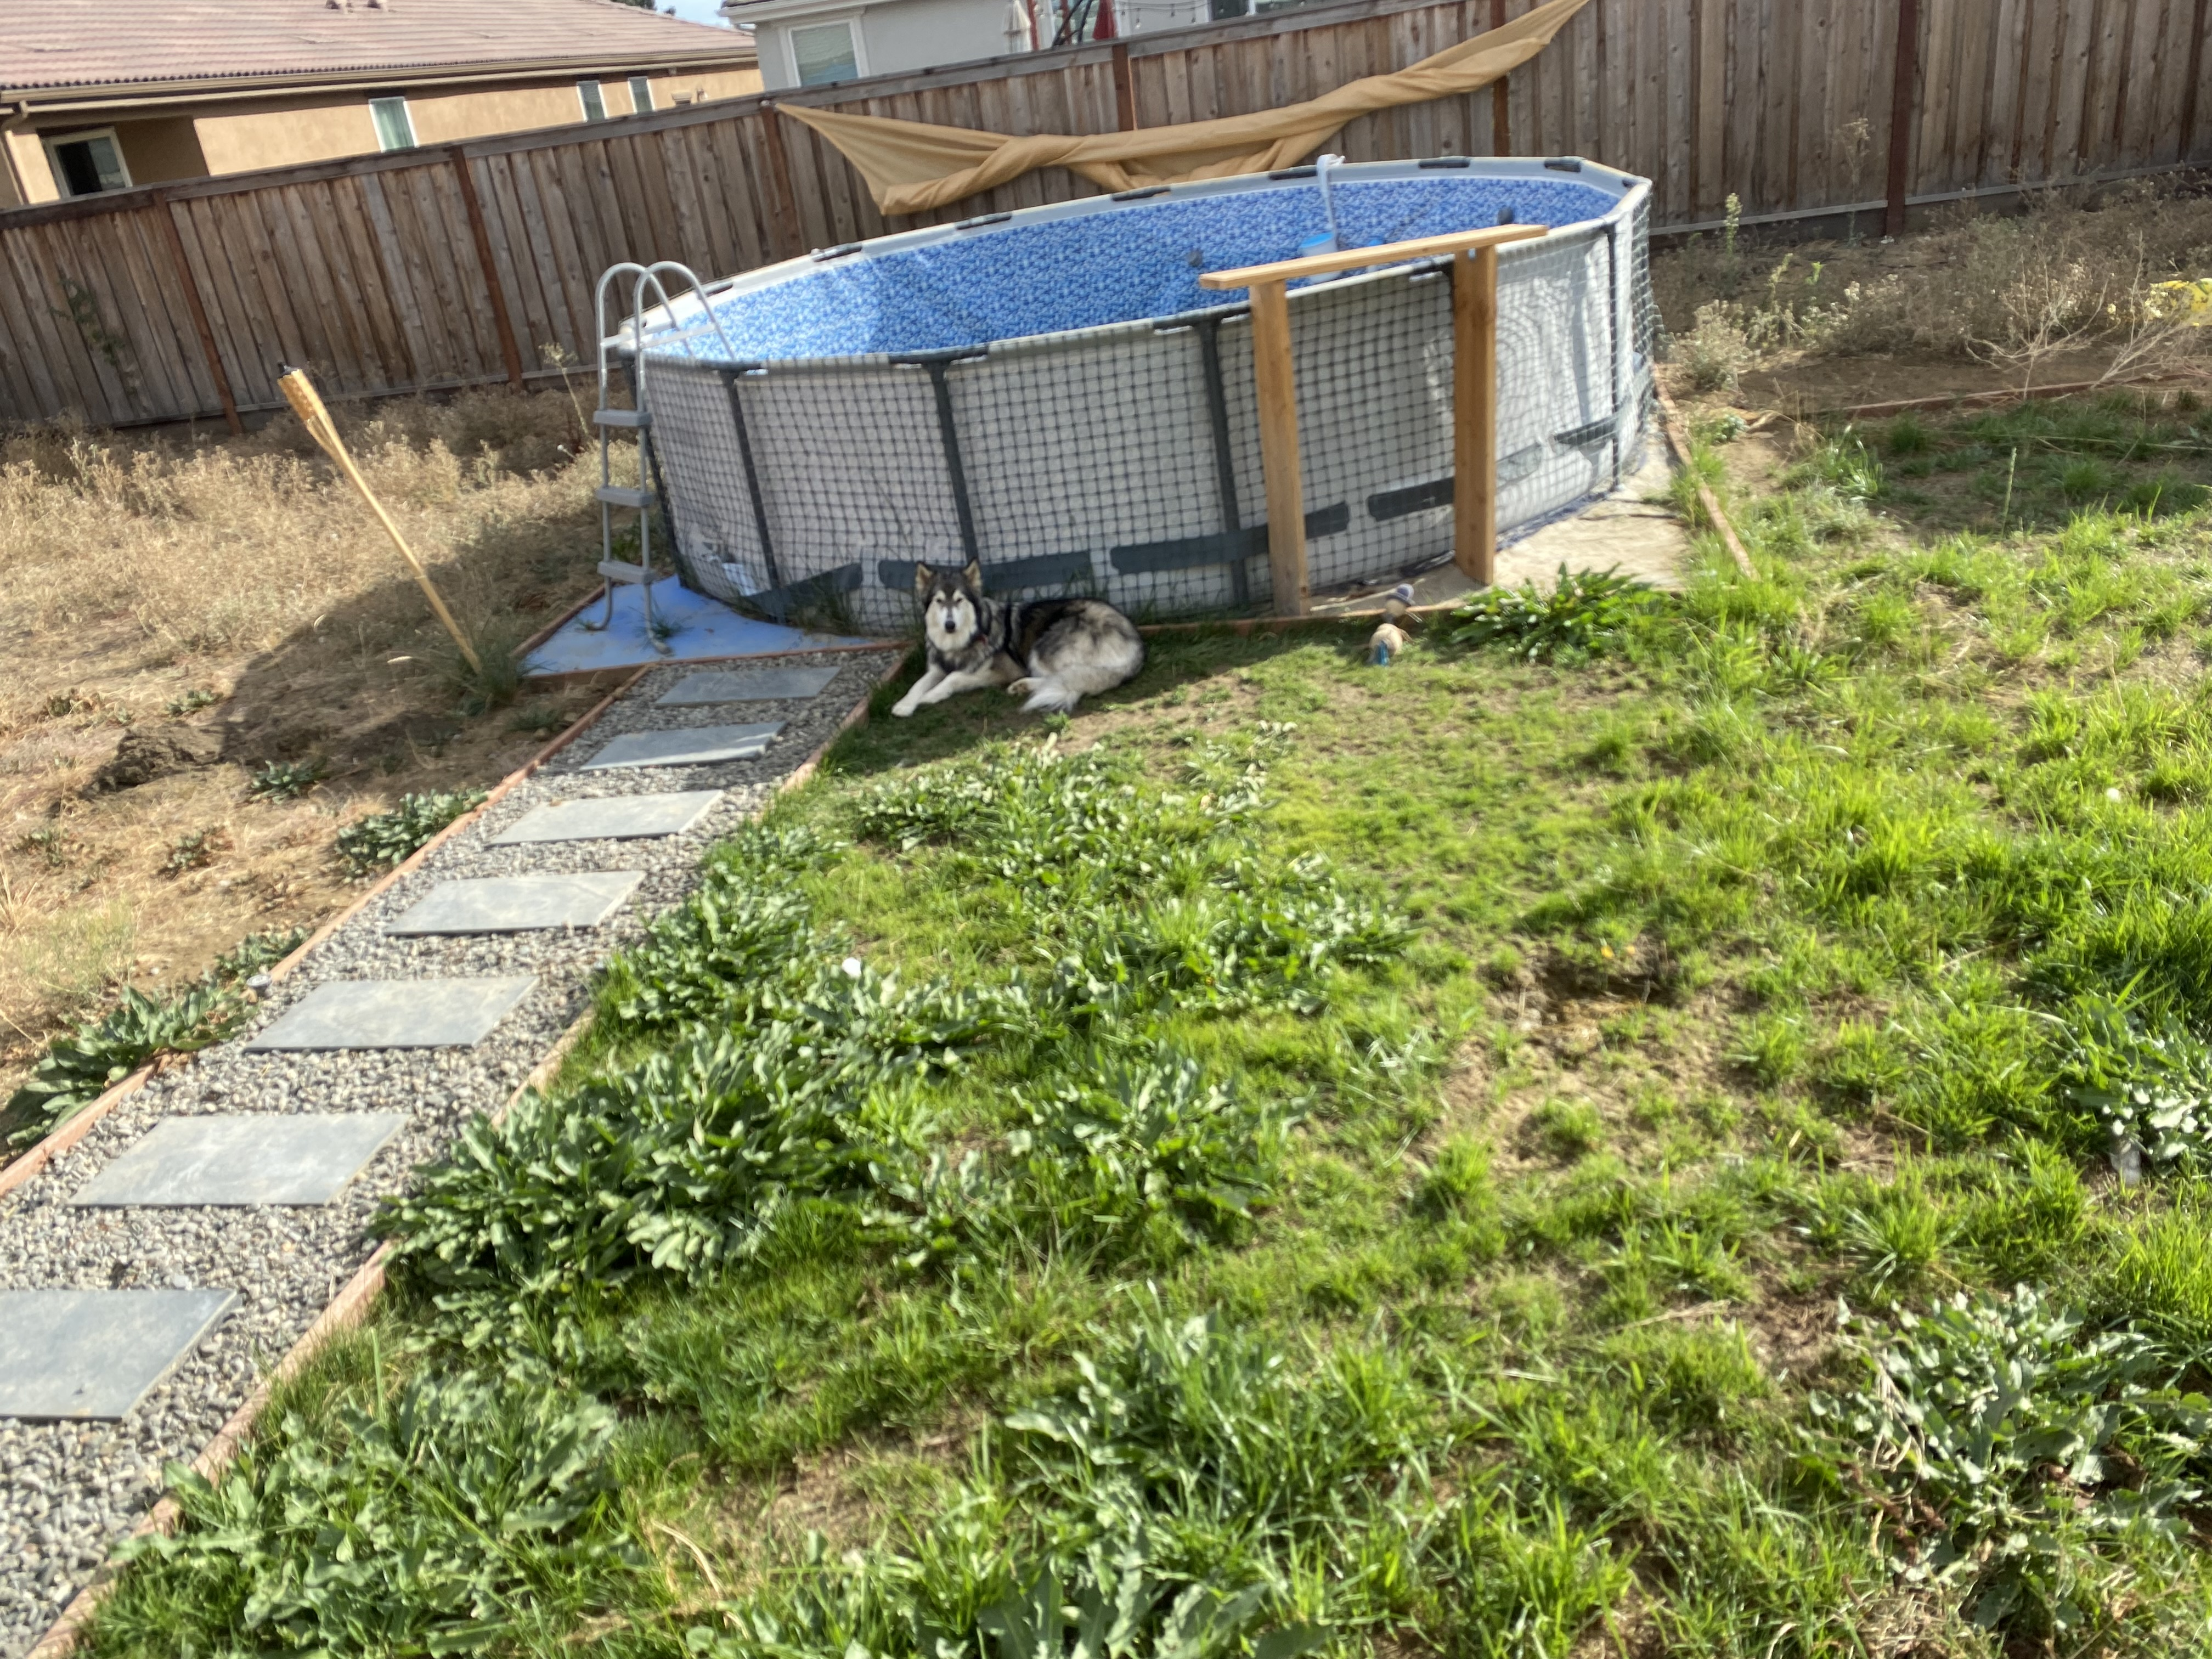weed: (1850, 1305, 2205, 1603), (388, 1089, 925, 1262), (216, 1420, 634, 1617), (1036, 756, 1350, 958), (1022, 1342, 1329, 1497), (918, 1546, 1306, 1659), (1047, 1072, 1277, 1206), (672, 824, 838, 967), (1449, 575, 1662, 652)
